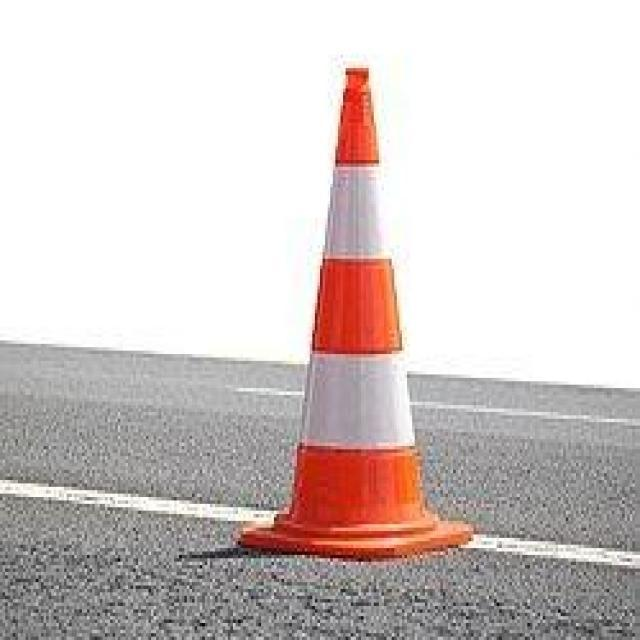Cone: (241, 64, 476, 564)
